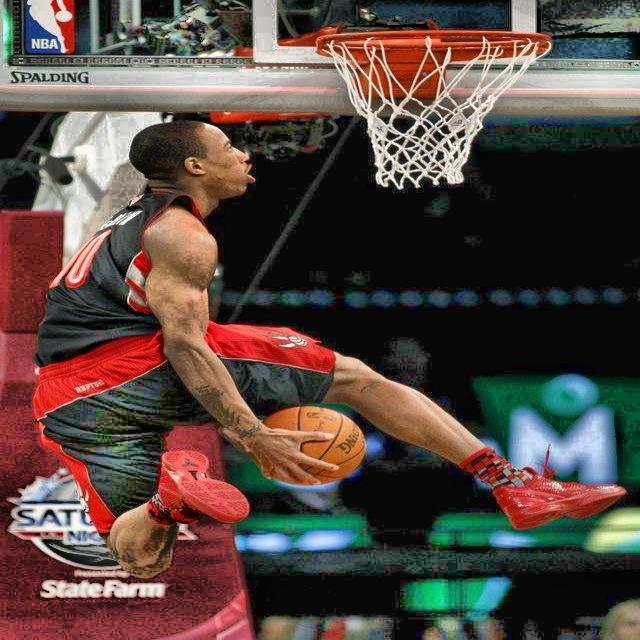rim: (312, 29, 554, 190)
